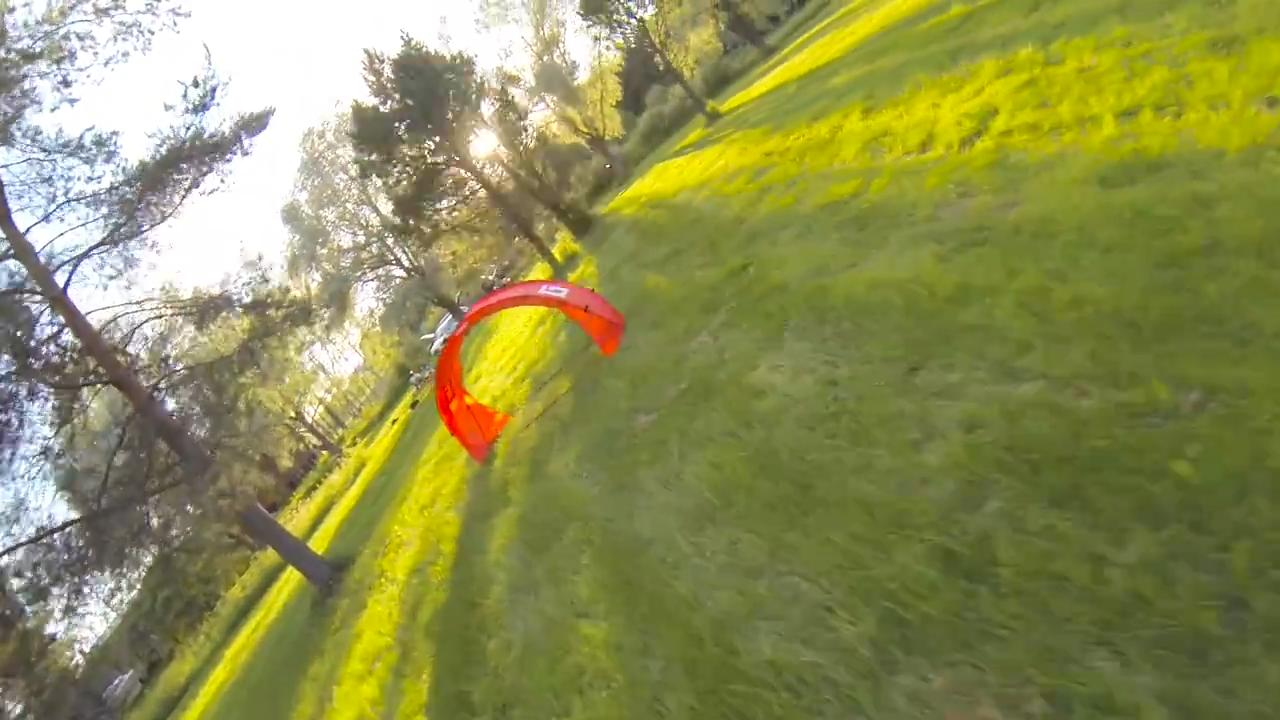gate: (431, 277, 629, 464)
